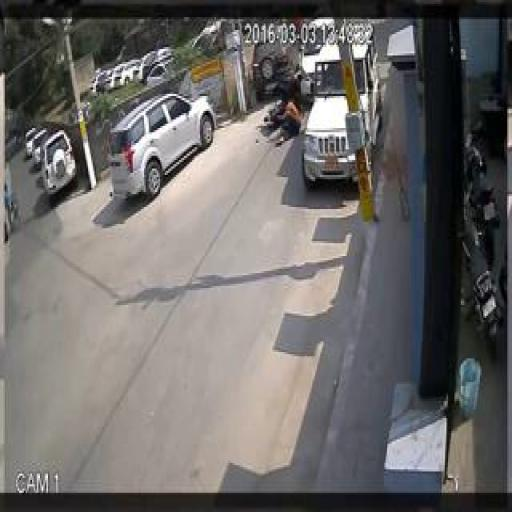Car: (303, 39, 380, 190), (110, 92, 216, 189), (255, 31, 300, 102), (41, 129, 79, 195), (302, 22, 332, 96), (32, 129, 47, 166), (27, 128, 36, 158)
Minor Accident: (264, 27, 342, 140)
Motor: (262, 97, 296, 143)
